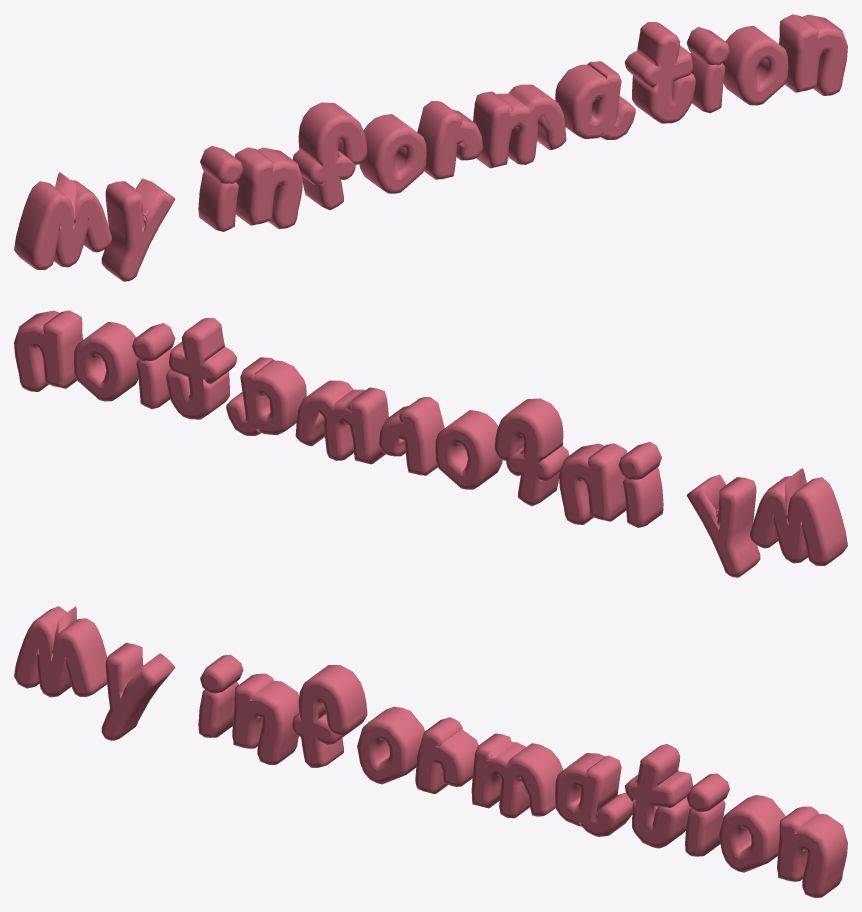
Rendered from MyInformatio.glb.
3 views of the same model, one above another, from view 1: azimuth 30°, elevation 25°; view 2: azimuth 150°, elevation 25°; view 3: azimuth 330°, elevation 25° (orthographic).
Visible parts, largest first — view 1: Text; view 2: Text; view 3: Text.
Part boxes in pixels (x1,y1,x2,y2): Text: [14, 14, 847, 281]; Text: [14, 310, 847, 577]; Text: [14, 606, 847, 897].
Bounding box in the file's own units: 4.64 × 0.6267 × 0.22.
